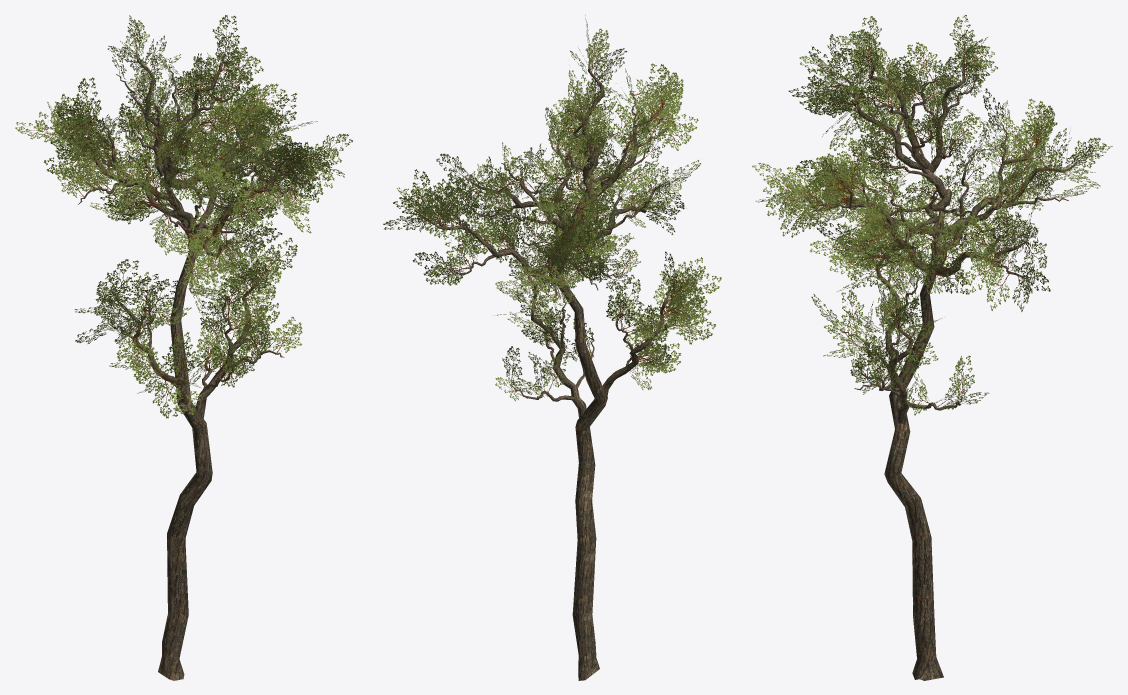
Rendered from ALL-TREES.FBX.
3 views of the same model, side by side, from view 1: azimuth 30°, elevation 25°; view 2: azimuth 150°, elevation 25°; view 3: azimuth 270°, elevation 25° (orthographic). The views are drawn at different scales.
Visible parts, largest first — view 1: real-tree_01, real-tree_01A; view 2: real-tree_01, real-tree_01A; view 3: real-tree_01, real-tree_01A.
Boxes of the visible parts, x1,y1,x2,y2 form: real-tree_01: [15, 15, 352, 418]; real-tree_01A: [56, 47, 314, 680]; real-tree_01: [383, 15, 721, 401]; real-tree_01A: [421, 55, 676, 680]; real-tree_01: [752, 15, 1112, 415]; real-tree_01A: [789, 52, 1078, 680].
Size of the model in its own units: 2.91 by 3.16 by 6.51.
